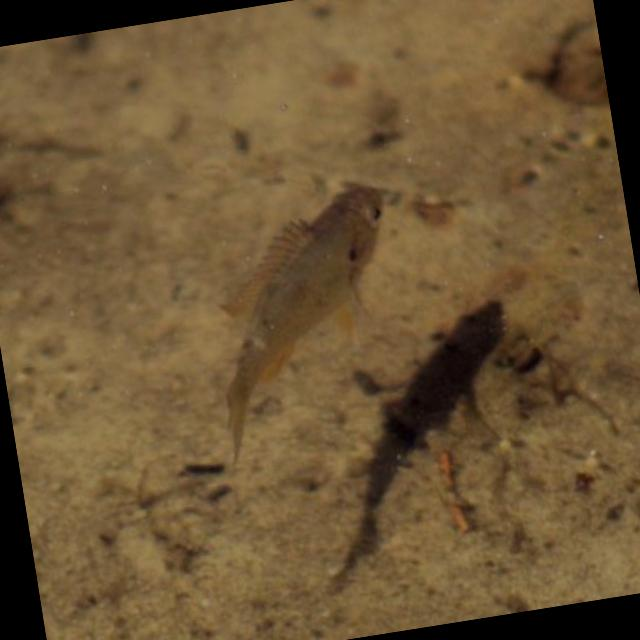Gunes Levregi: (175, 168, 428, 477)
